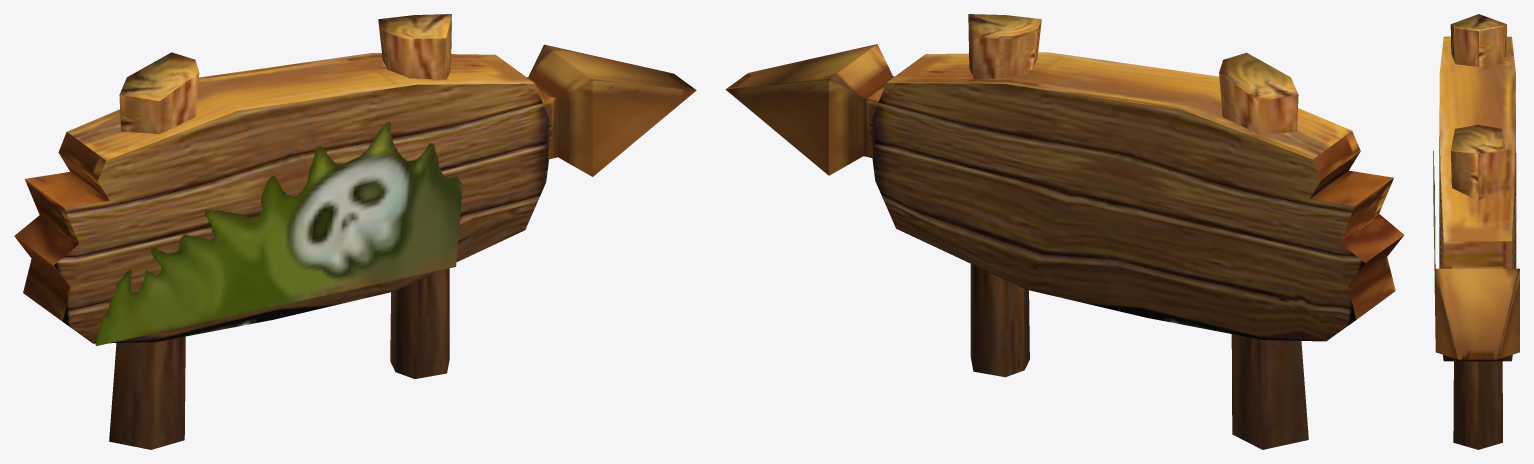
File: Lubiao03.FBX
The picture shows the model from 3 angles, left to right: view 1: azimuth 30°, elevation 25°; view 2: azimuth 150°, elevation 25°; view 3: azimuth 270°, elevation 25°; orthographic projection. The views are drawn at different scales.
Parts seen in each view (by area): view 1: Lubiao03; view 2: Lubiao03; view 3: Lubiao03.
Boxes of the visible parts, x1,y1,x2,y2 form: Lubiao03: (14,14,696,449); Lubiao03: (725,14,1403,449); Lubiao03: (1433,14,1519,449).
Bounding box in the file's own units: 1.74 × 0.9219 × 0.2325.
